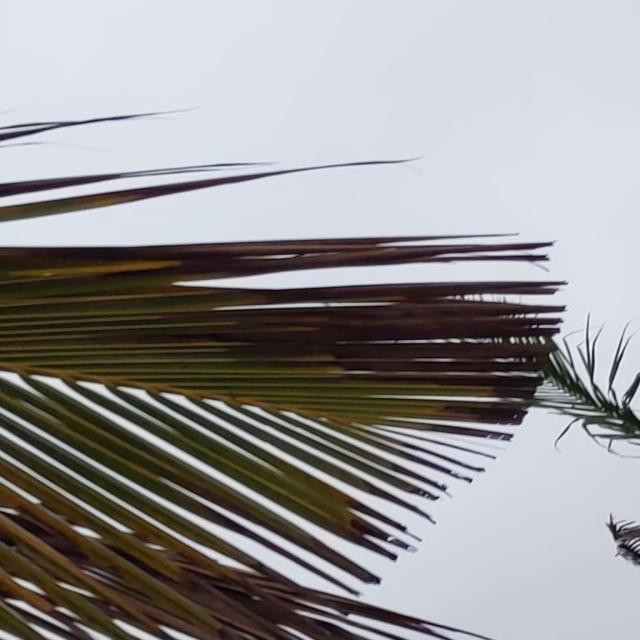leaf rot: (197, 203, 555, 432)
